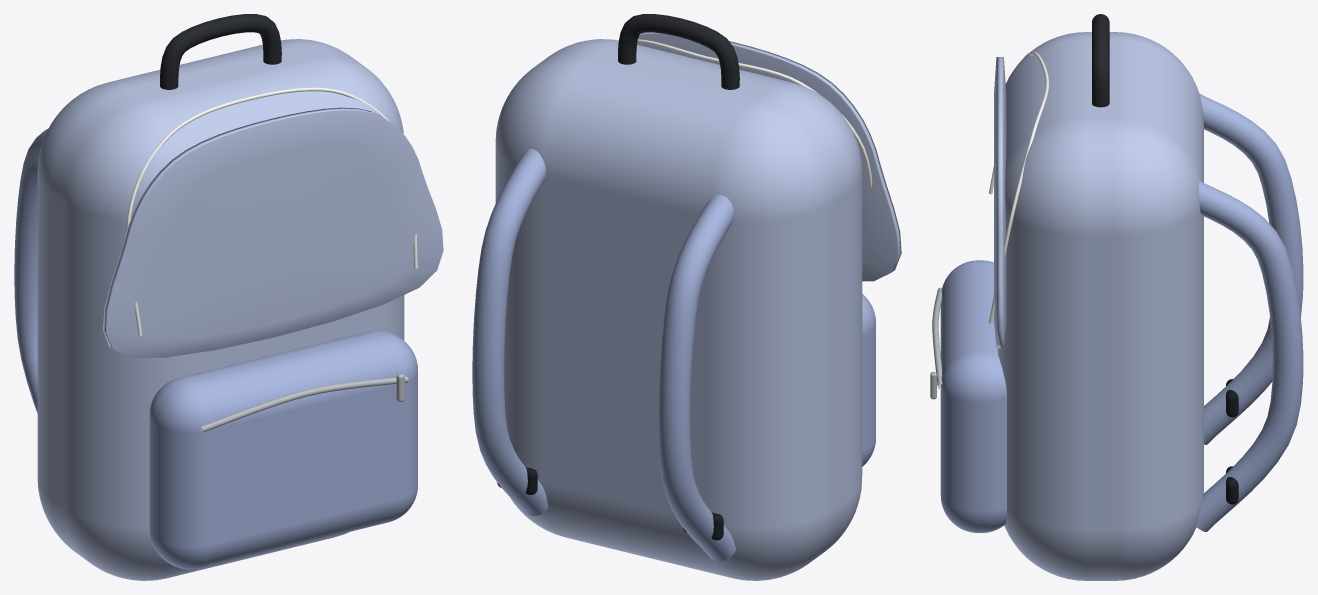
The model's file is weekend-backpack.glb.
The picture shows the model from 3 angles, left to right: view 1: azimuth 30°, elevation 25°; view 2: azimuth 150°, elevation 25°; view 3: azimuth 270°, elevation 25°; orthographic projection. The views are drawn at different scales.
Parts seen in each view (by area): view 1: soft-continuous-backpack-body, rounded-sewn-crown-panel, complete-sewn-backpack-002, complete-sewn-backpack-007, complete-sewn-backpack-011, complete-sewn-backpack-006, complete-sewn-backpack-003; view 2: soft-continuous-backpack-body, complete-sewn-backpack-007, complete-sewn-backpack-009, rounded-sewn-crown-panel, complete-sewn-backpack-011, complete-sewn-backpack-002, complete-sewn-backpack-006; view 3: soft-continuous-backpack-body, complete-sewn-backpack-002, complete-sewn-backpack-009, complete-sewn-backpack-007, rounded-sewn-crown-panel, complete-sewn-backpack-011, complete-sewn-backpack-006, complete-sewn-backpack-003.
Boxes of the visible parts, bbox=[...] form: soft-continuous-backpack-body: bbox=[37, 39, 404, 580]; rounded-sewn-crown-panel: bbox=[103, 107, 443, 357]; complete-sewn-backpack-002: bbox=[149, 330, 417, 569]; complete-sewn-backpack-007: bbox=[14, 128, 48, 413]; complete-sewn-backpack-011: bbox=[160, 14, 281, 89]; complete-sewn-backpack-006: bbox=[126, 87, 417, 335]; complete-sewn-backpack-003: bbox=[201, 376, 408, 432]; soft-continuous-backpack-body: bbox=[495, 39, 862, 580]; complete-sewn-backpack-007: bbox=[658, 195, 735, 561]; complete-sewn-backpack-009: bbox=[472, 148, 547, 515]; rounded-sewn-crown-panel: bbox=[637, 32, 901, 281]; complete-sewn-backpack-011: bbox=[618, 14, 739, 89]; complete-sewn-backpack-002: bbox=[862, 294, 875, 466]; complete-sewn-backpack-006: bbox=[637, 39, 872, 189]; soft-continuous-backpack-body: bbox=[997, 32, 1203, 580]; complete-sewn-backpack-002: bbox=[940, 260, 1006, 532]; complete-sewn-backpack-009: bbox=[1196, 181, 1303, 531]; complete-sewn-backpack-007: bbox=[1199, 93, 1303, 444]; rounded-sewn-crown-panel: bbox=[994, 57, 1006, 348]; complete-sewn-backpack-011: bbox=[1092, 14, 1109, 107]; complete-sewn-backpack-006: bbox=[989, 51, 1049, 323]; complete-sewn-backpack-003: bbox=[932, 287, 942, 389].
Size of the model in its own units: 1.34 by 2 by 1.33.
